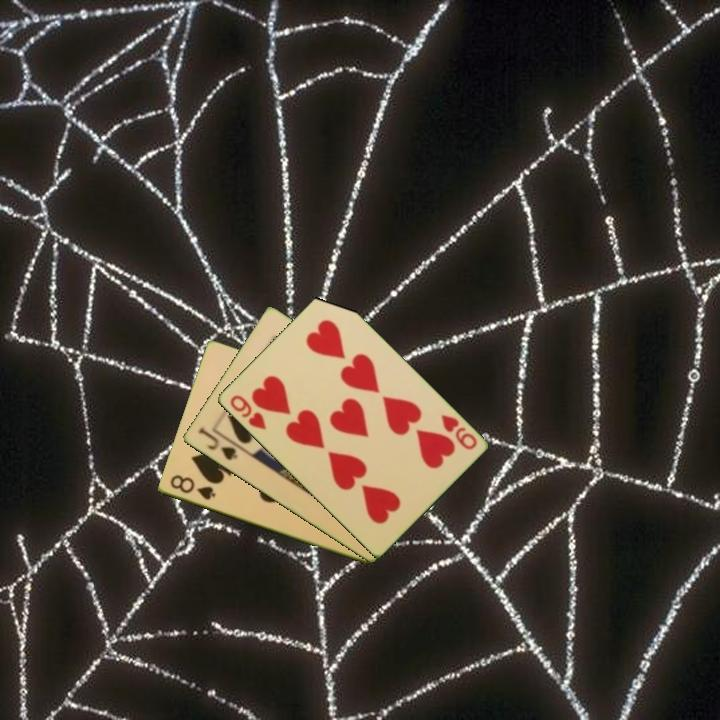8s: (166, 471, 218, 503)
9h: (437, 411, 479, 453), (226, 392, 268, 433)
Js: (194, 423, 240, 464)
